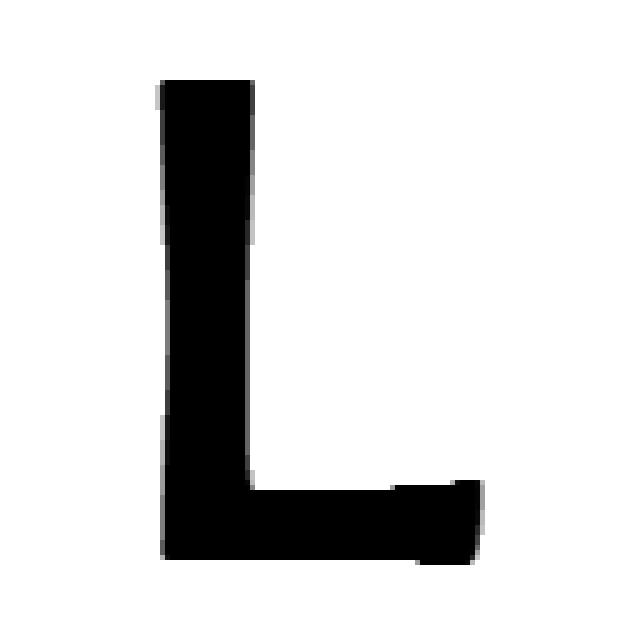L: (145, 78, 503, 572)
